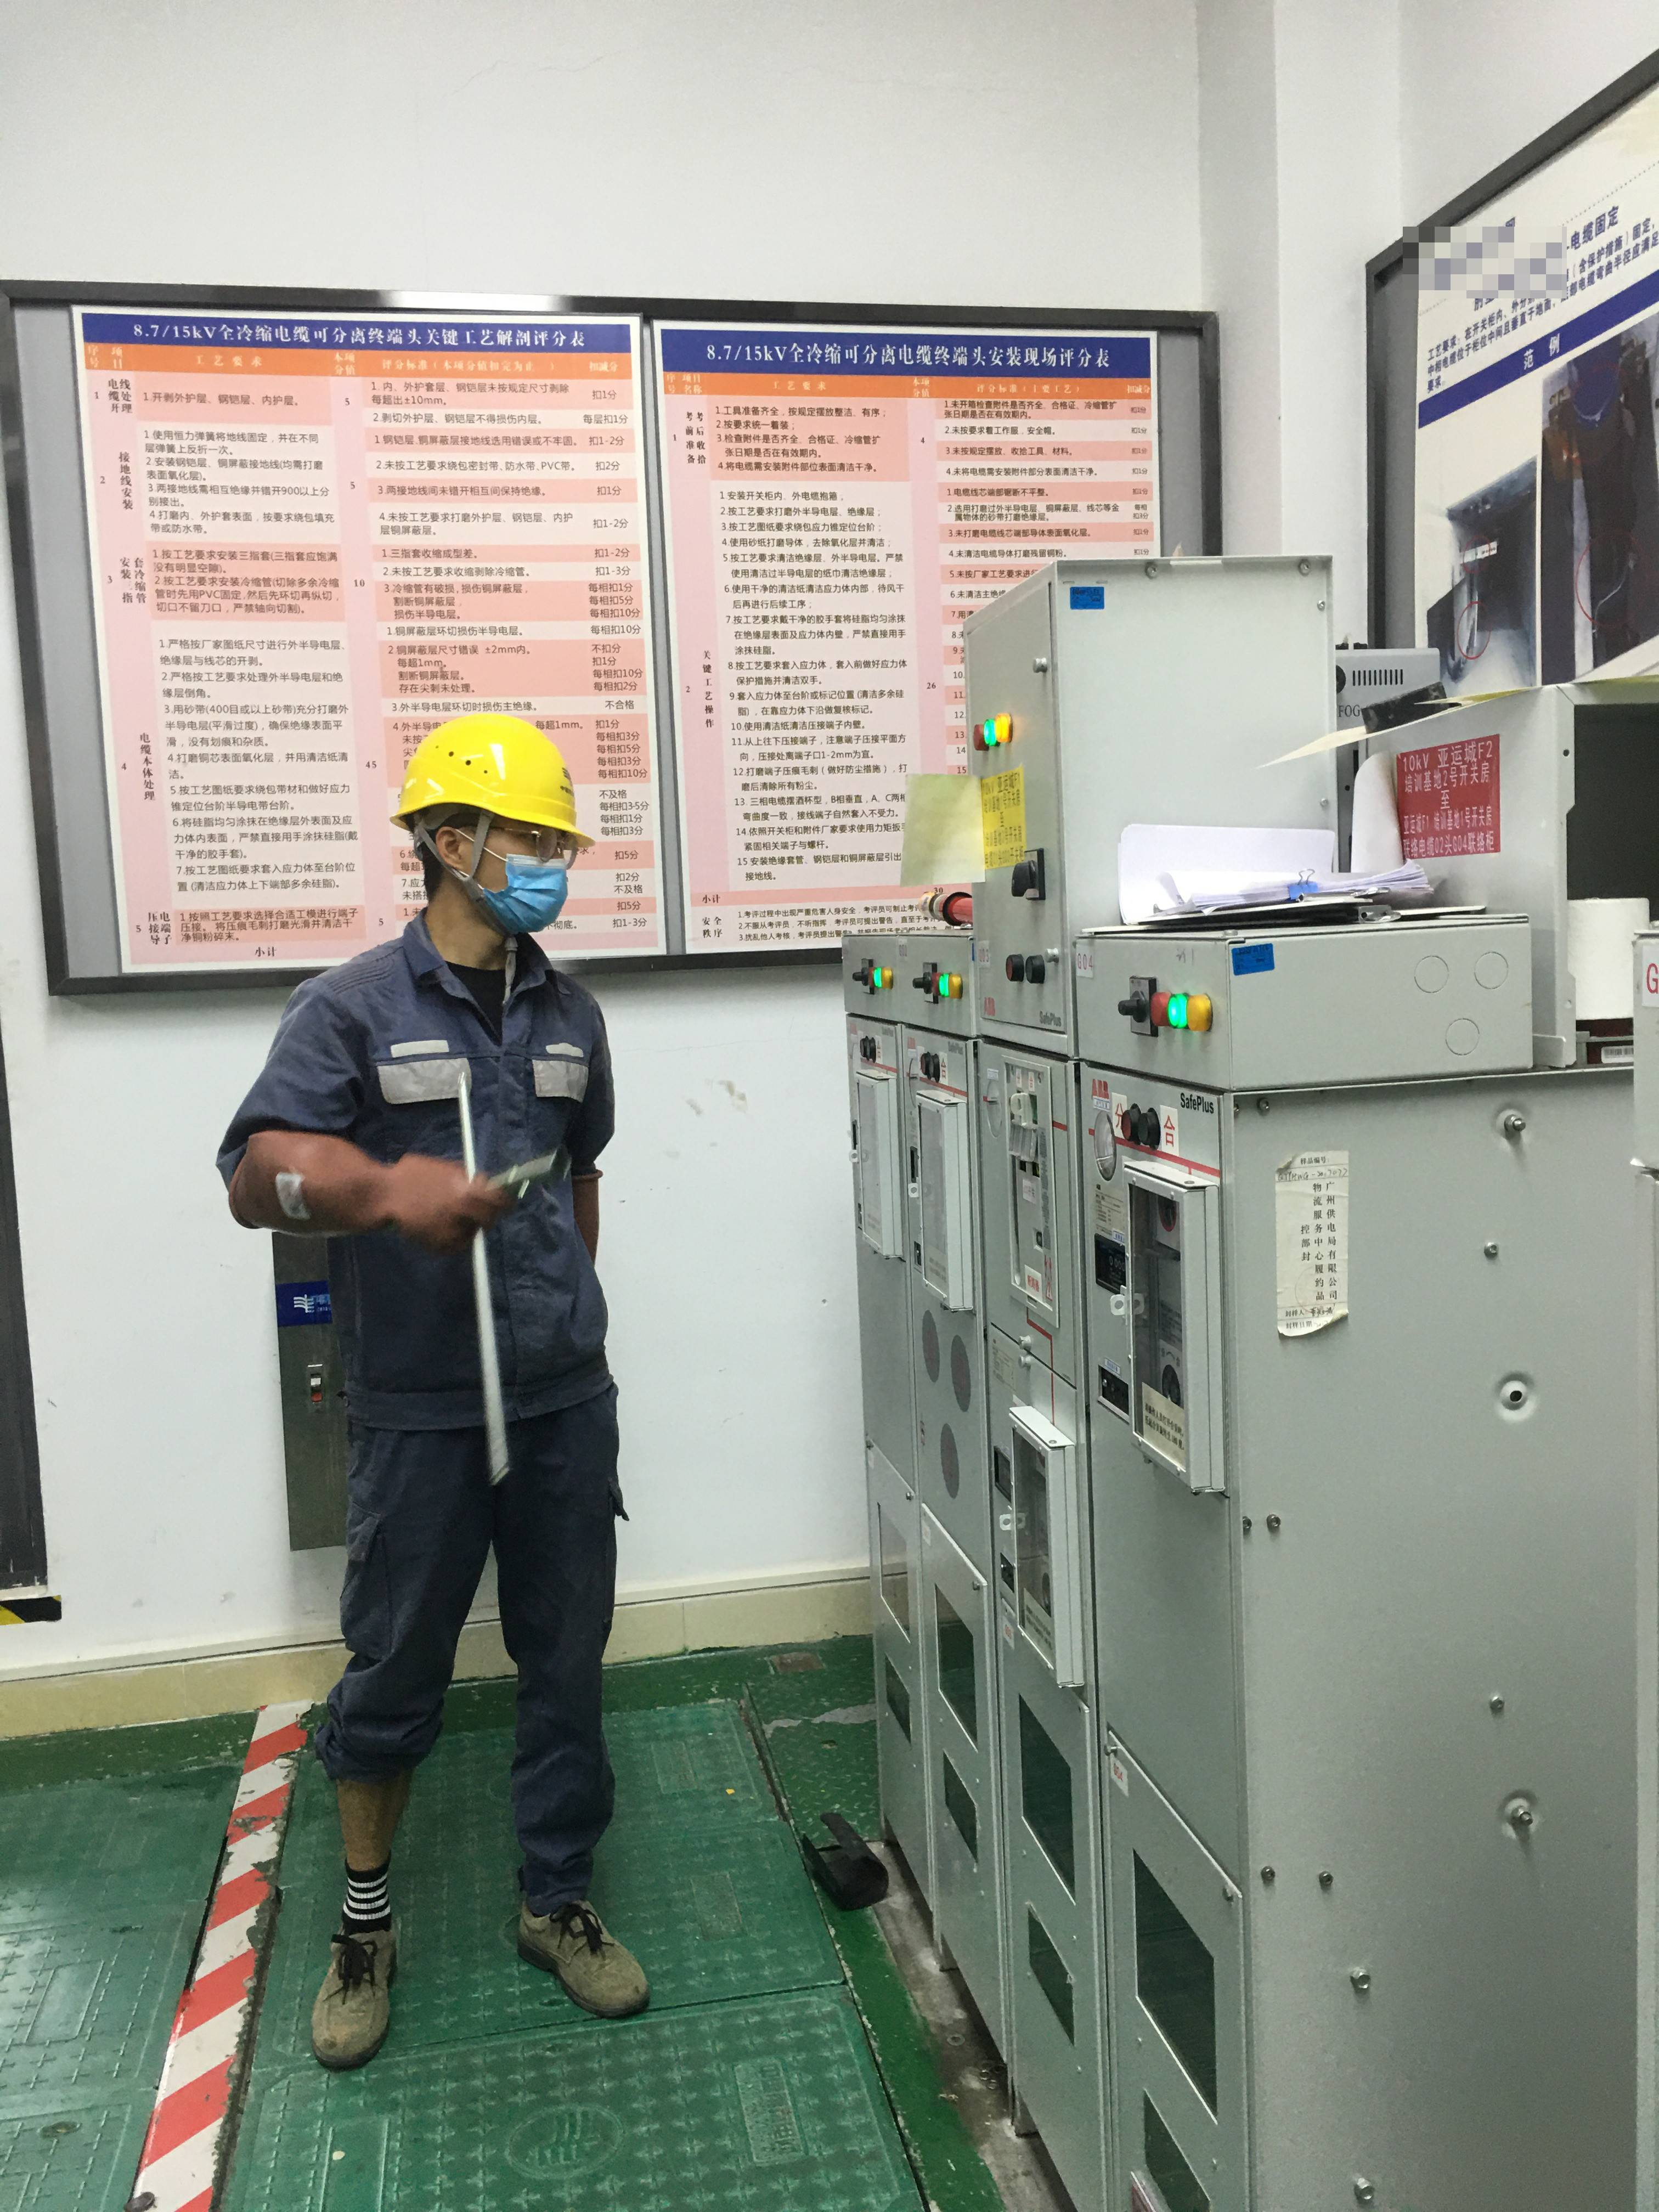downsuit: (308, 1440, 638, 1919)
upsuit: (221, 913, 634, 1418)
wrongbottom: (317, 1695, 437, 1911)
